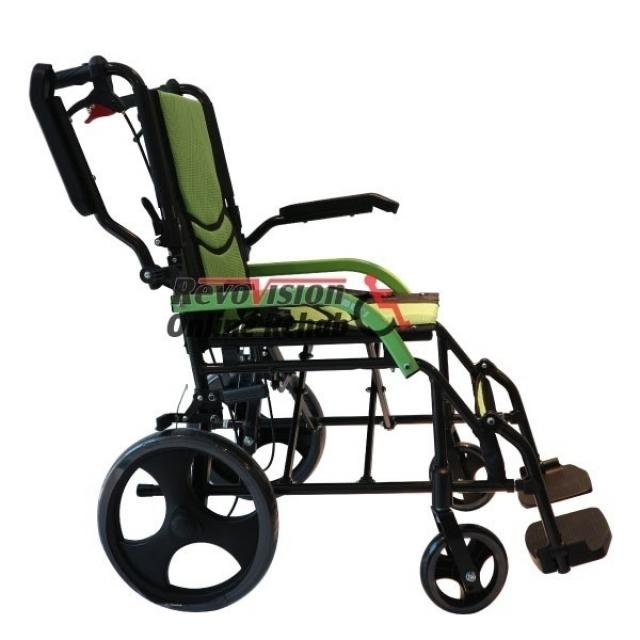wheelchair: (24, 42, 631, 628)
